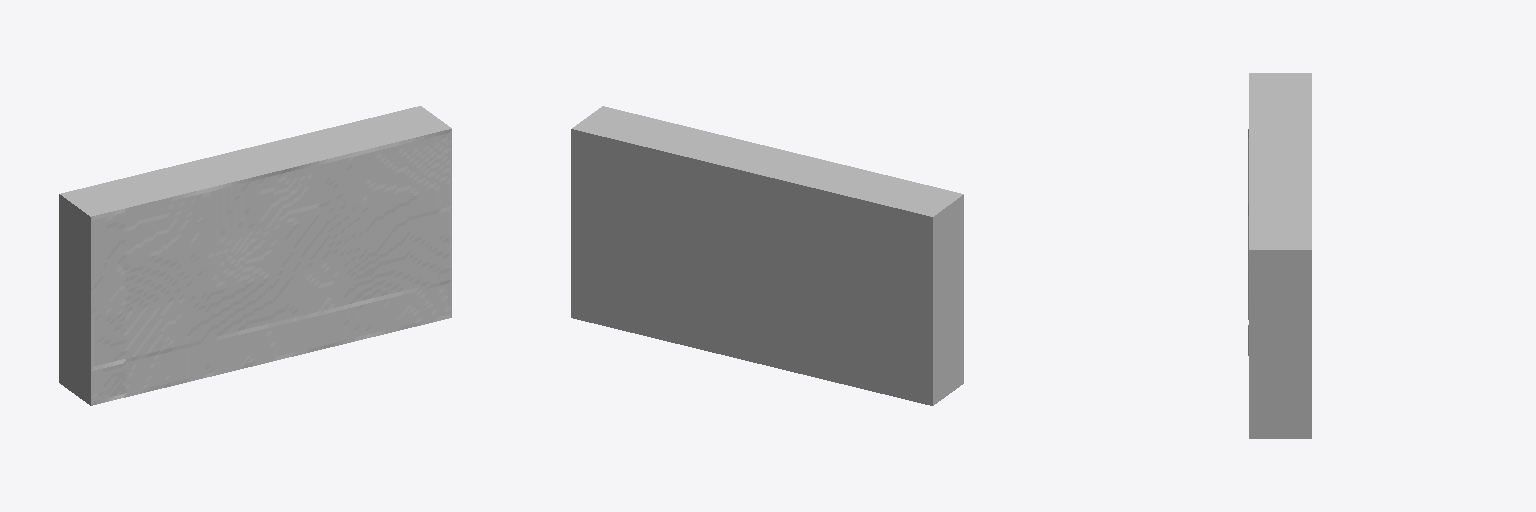
File: rectangular_prism_bumps_5_4.obj
3 views of the same model, side by side, from view 1: azimuth 30°, elevation 25°; view 2: azimuth 150°, elevation 25°; view 3: azimuth 270°, elevation 25° (orthographic).
Size of the model in its own units: 10 by 5 by 1.52.